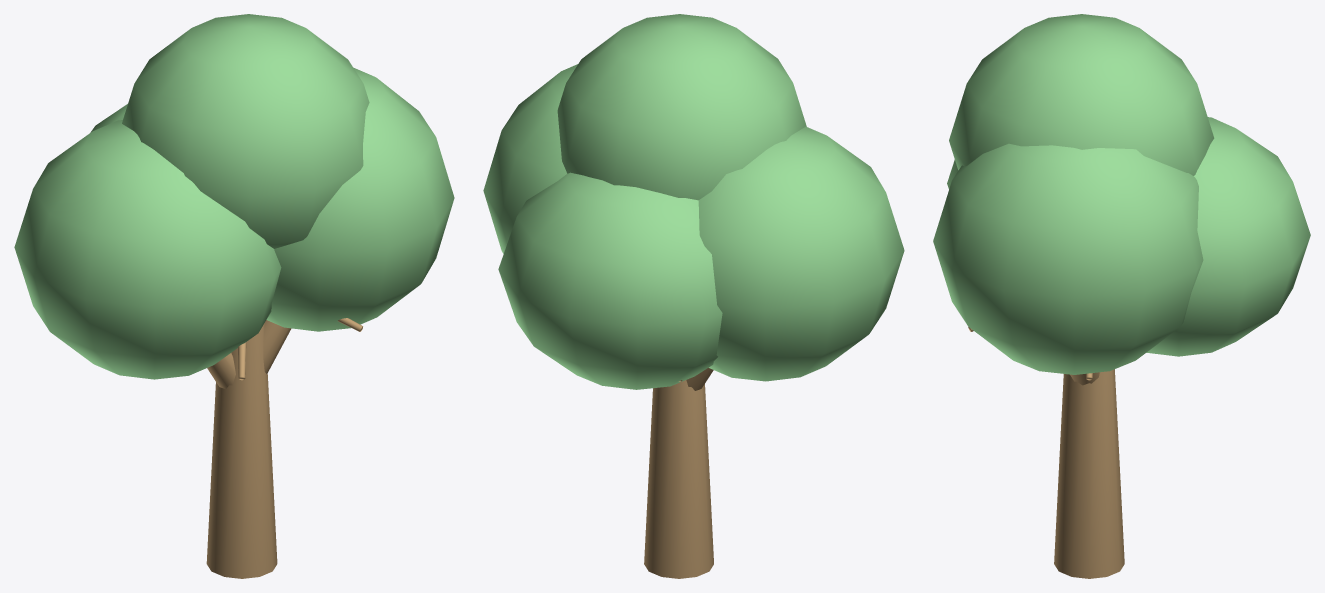
The model's file is tree_harvest_summer.glb.
The picture shows the model from 3 angles, left to right: view 1: azimuth 30°, elevation 25°; view 2: azimuth 150°, elevation 25°; view 3: azimuth 270°, elevation 25°; orthographic projection.
Size of the model in its own units: 2.44 by 3.19 by 2.03.
